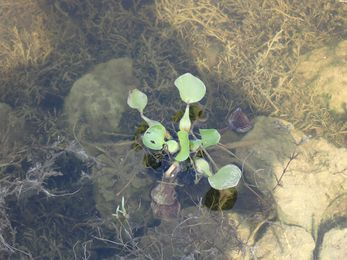water_hyacinth: (121, 64, 244, 210)
